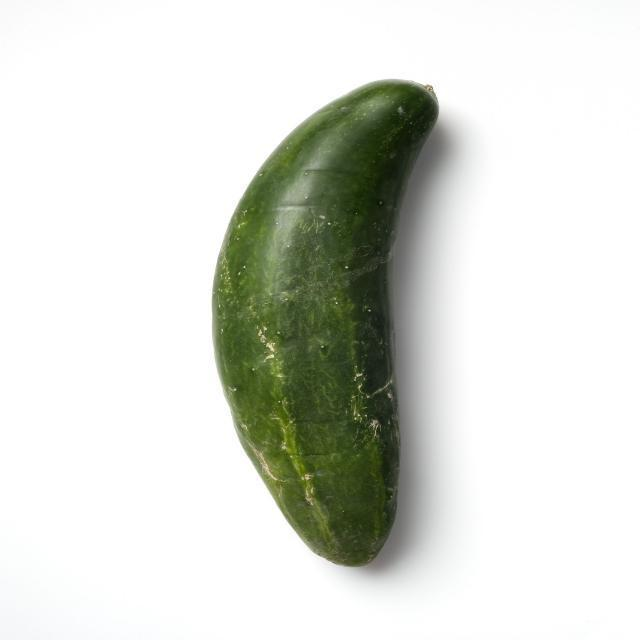cucumber: (203, 76, 447, 572)
